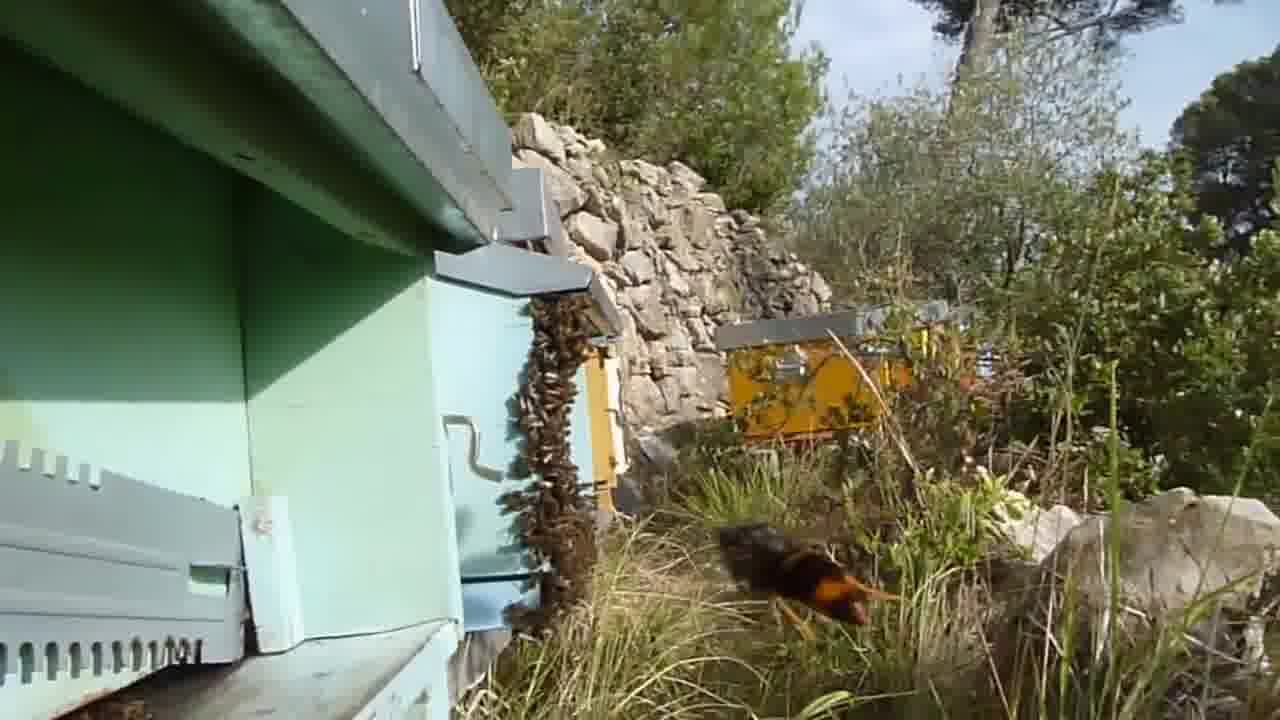bee: (512, 504, 598, 583), (513, 431, 591, 503), (520, 348, 585, 422), (532, 294, 596, 351)
hornet: (685, 510, 881, 637)
